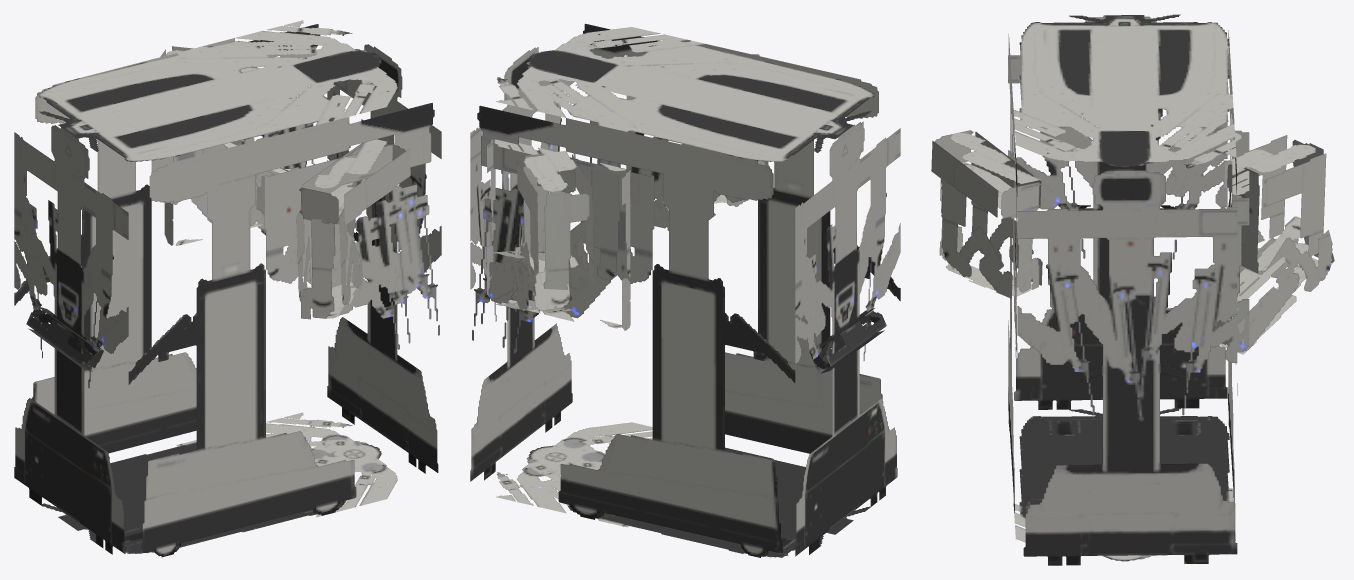
File: surgical-robot-512.glb
The picture shows the model from 3 angles, left to right: view 1: azimuth 30°, elevation 25°; view 2: azimuth 150°, elevation 25°; view 3: azimuth 270°, elevation 25°; orthographic projection.
Parts seen in each view (by area): view 1: box_impostor; view 2: box_impostor; view 3: box_impostor.
Part boxes in pixels (bbox=[...]): box_impostor: bbox=[14, 20, 441, 557]; box_impostor: bbox=[470, 23, 900, 557]; box_impostor: bbox=[931, 14, 1334, 565].
Bounding box in the file's own units: 1.81 × 2.02 × 1.91.
1 material, 1 textured.
